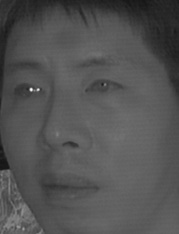eye: (83, 74, 128, 99), (9, 81, 47, 104)
mouth: (39, 166, 100, 208)
